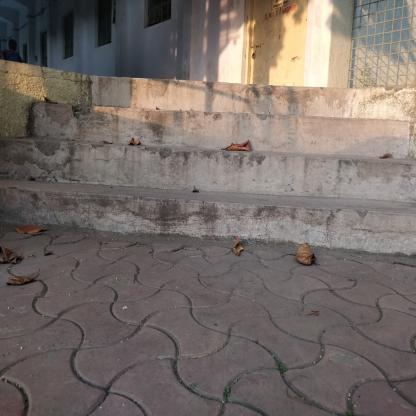stairs: (119, 79, 349, 266)
